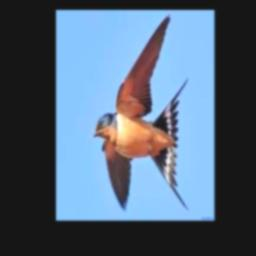Swallow: (90, 14, 188, 211)
